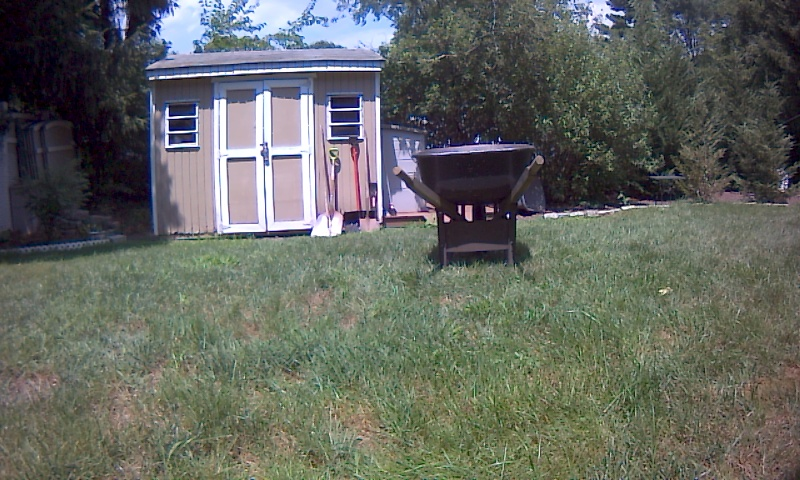shovel: (353, 122, 384, 249), (320, 139, 347, 260)
wheelbarrow: (381, 136, 565, 291)
